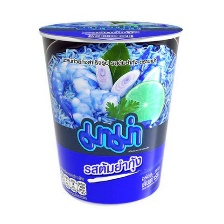paper_cup: (31, 14, 187, 208)
